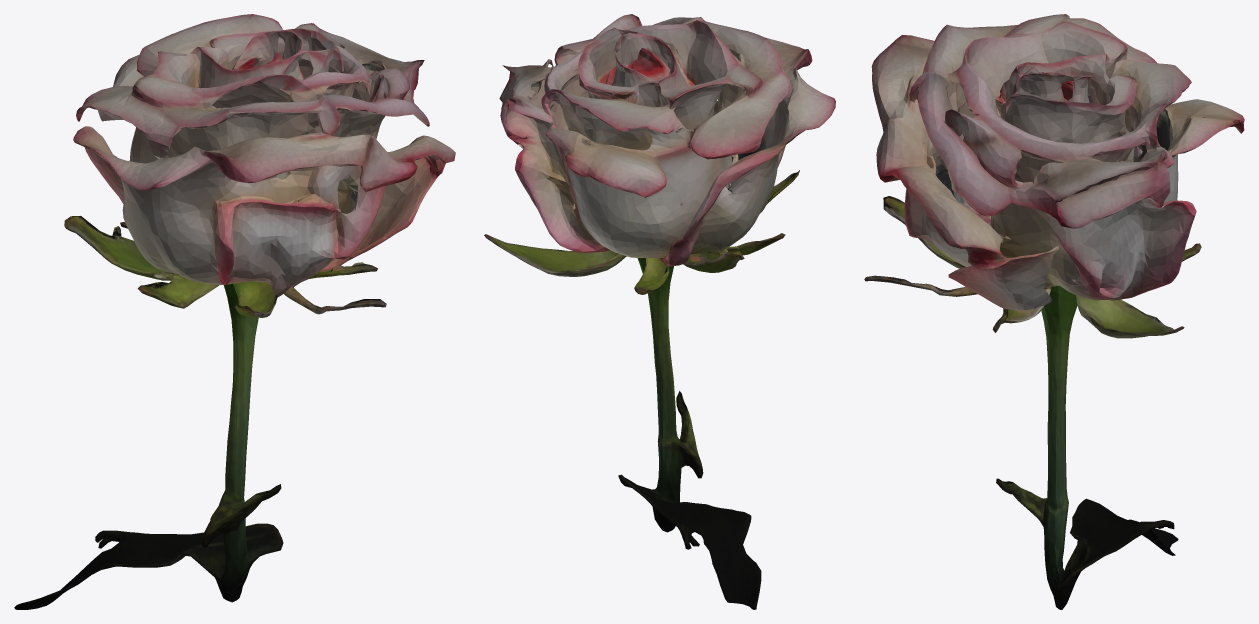
The picture shows the model from 3 angles, left to right: view 1: azimuth 30°, elevation 25°; view 2: azimuth 150°, elevation 25°; view 3: azimuth 270°, elevation 25°; orthographic projection. The views are drawn at different scales.
Parts seen in each view (by area): view 1: world; view 2: world; view 3: world.
Part boxes in pixels (left/top/right/bottom): world: left=14, top=14, right=455, bottom=609; world: left=484, top=14, right=835, bottom=609; world: left=864, top=14, right=1244, bottom=609.
Bounding box in the file's own units: 0.6419 × 0.9932 × 0.5929.
1 material, 1 textured.
